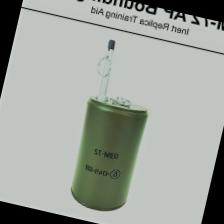OZM-72: (58, 77, 162, 224)
